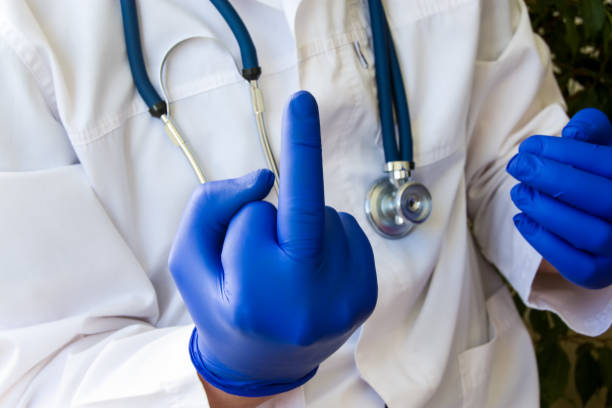insulting_gesture: (171, 84, 382, 354)
